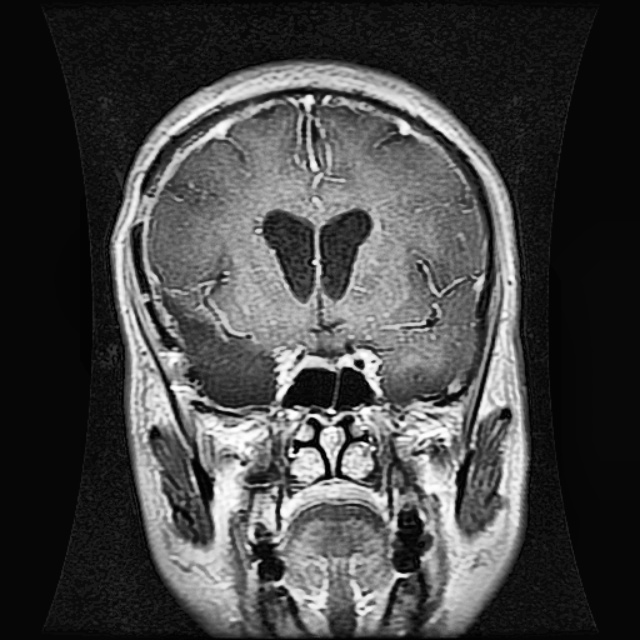Meningioma: (162, 292, 277, 404)
